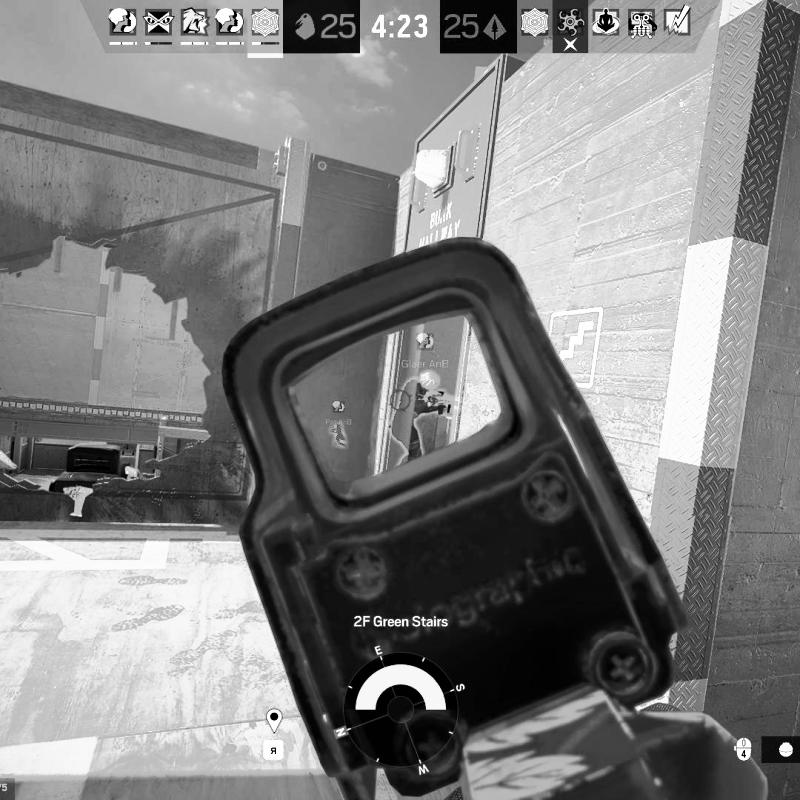Character: (411, 370, 456, 466)
Friend_label: (399, 330, 451, 370), (322, 401, 358, 427)
Head: (420, 372, 438, 392)
